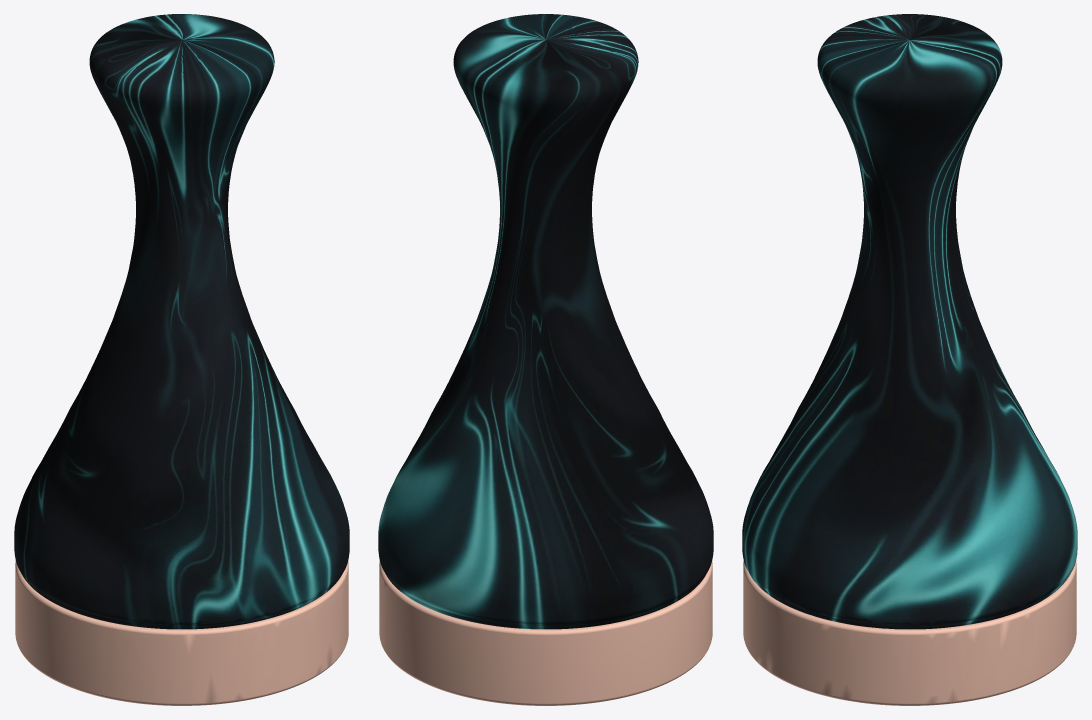
File: bishop-black-hd.glb
3 views of the same model, side by side, from view 1: azimuth 30°, elevation 25°; view 2: azimuth 150°, elevation 25°; view 3: azimuth 270°, elevation 25° (orthographic).
Visible parts, largest first — view 1: strelec_cerna; view 2: strelec_cerna; view 3: strelec_cerna.
Boxes of the visible parts, x1=… form: strelec_cerna: x1=14, y1=14, x2=349, y2=705; strelec_cerna: x1=378, y1=14, x2=713, y2=705; strelec_cerna: x1=742, y1=14, x2=1077, y2=705.
Size of the model in its own units: 0.6825 by 1.34 by 0.6824.
2 materials, 1 textured.
